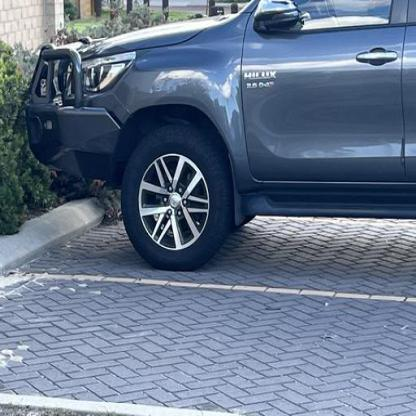Tire: (120, 129, 233, 272)
